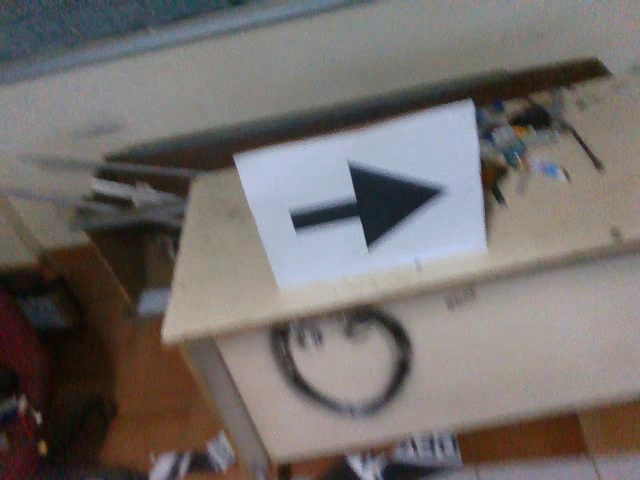Right: (279, 156, 453, 252)
